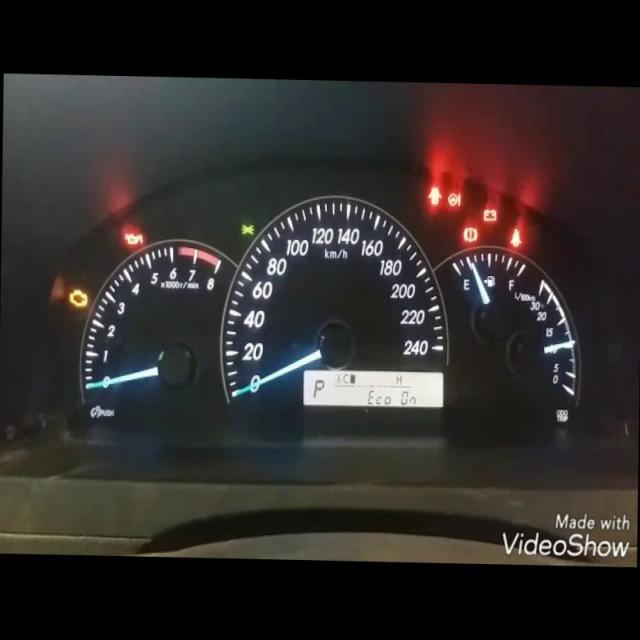Electronic Power Steering: (448, 192, 462, 207)
Seat Belt: (511, 227, 522, 248)
